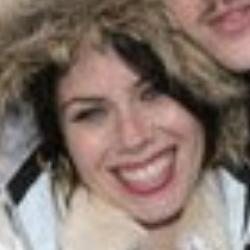face: (14, 7, 232, 236)
